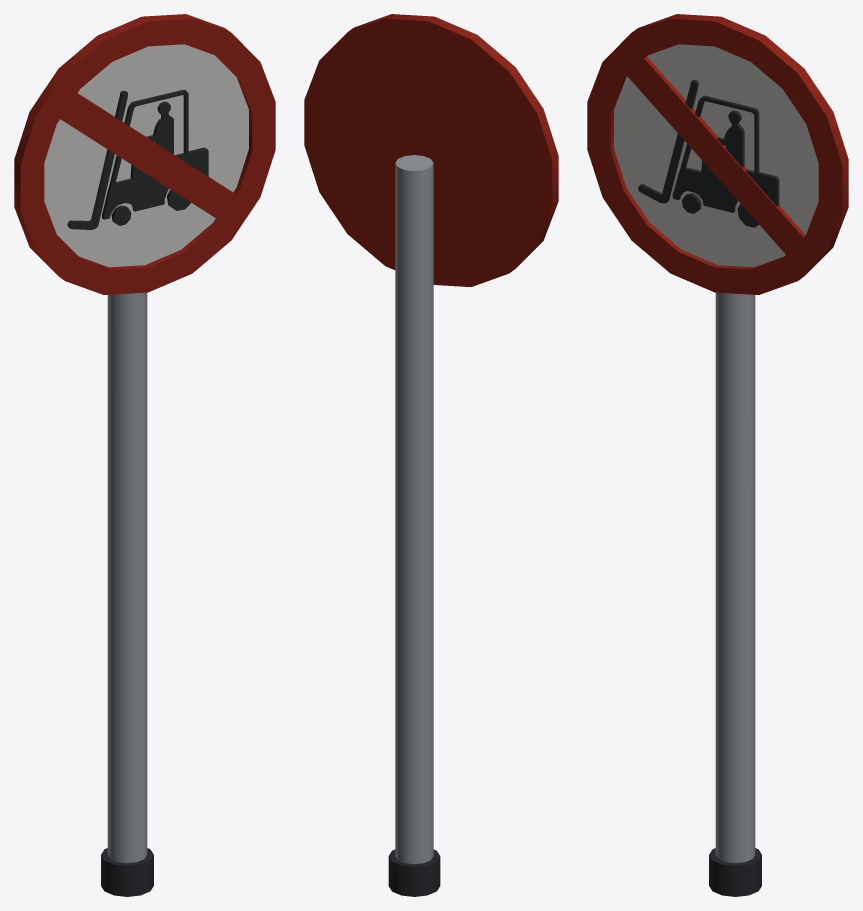
File: TrafficSign_8.fbx
3 views of the same model, side by side, from view 1: azimuth 30°, elevation 25°; view 2: azimuth 150°, elevation 25°; view 3: azimuth 330°, elevation 25° (orthographic). The views are drawn at different scales.
Visible parts, largest first — view 1: TrafficSign_8; view 2: TrafficSign_8; view 3: TrafficSign_8.
Part boxes in pixels (x1,y1,x2,y2): TrafficSign_8: (14,14,275,896); TrafficSign_8: (304,14,558,896); TrafficSign_8: (587,14,848,896).
Size of the model in its own units: 63.99 by 211 by 14.83.
